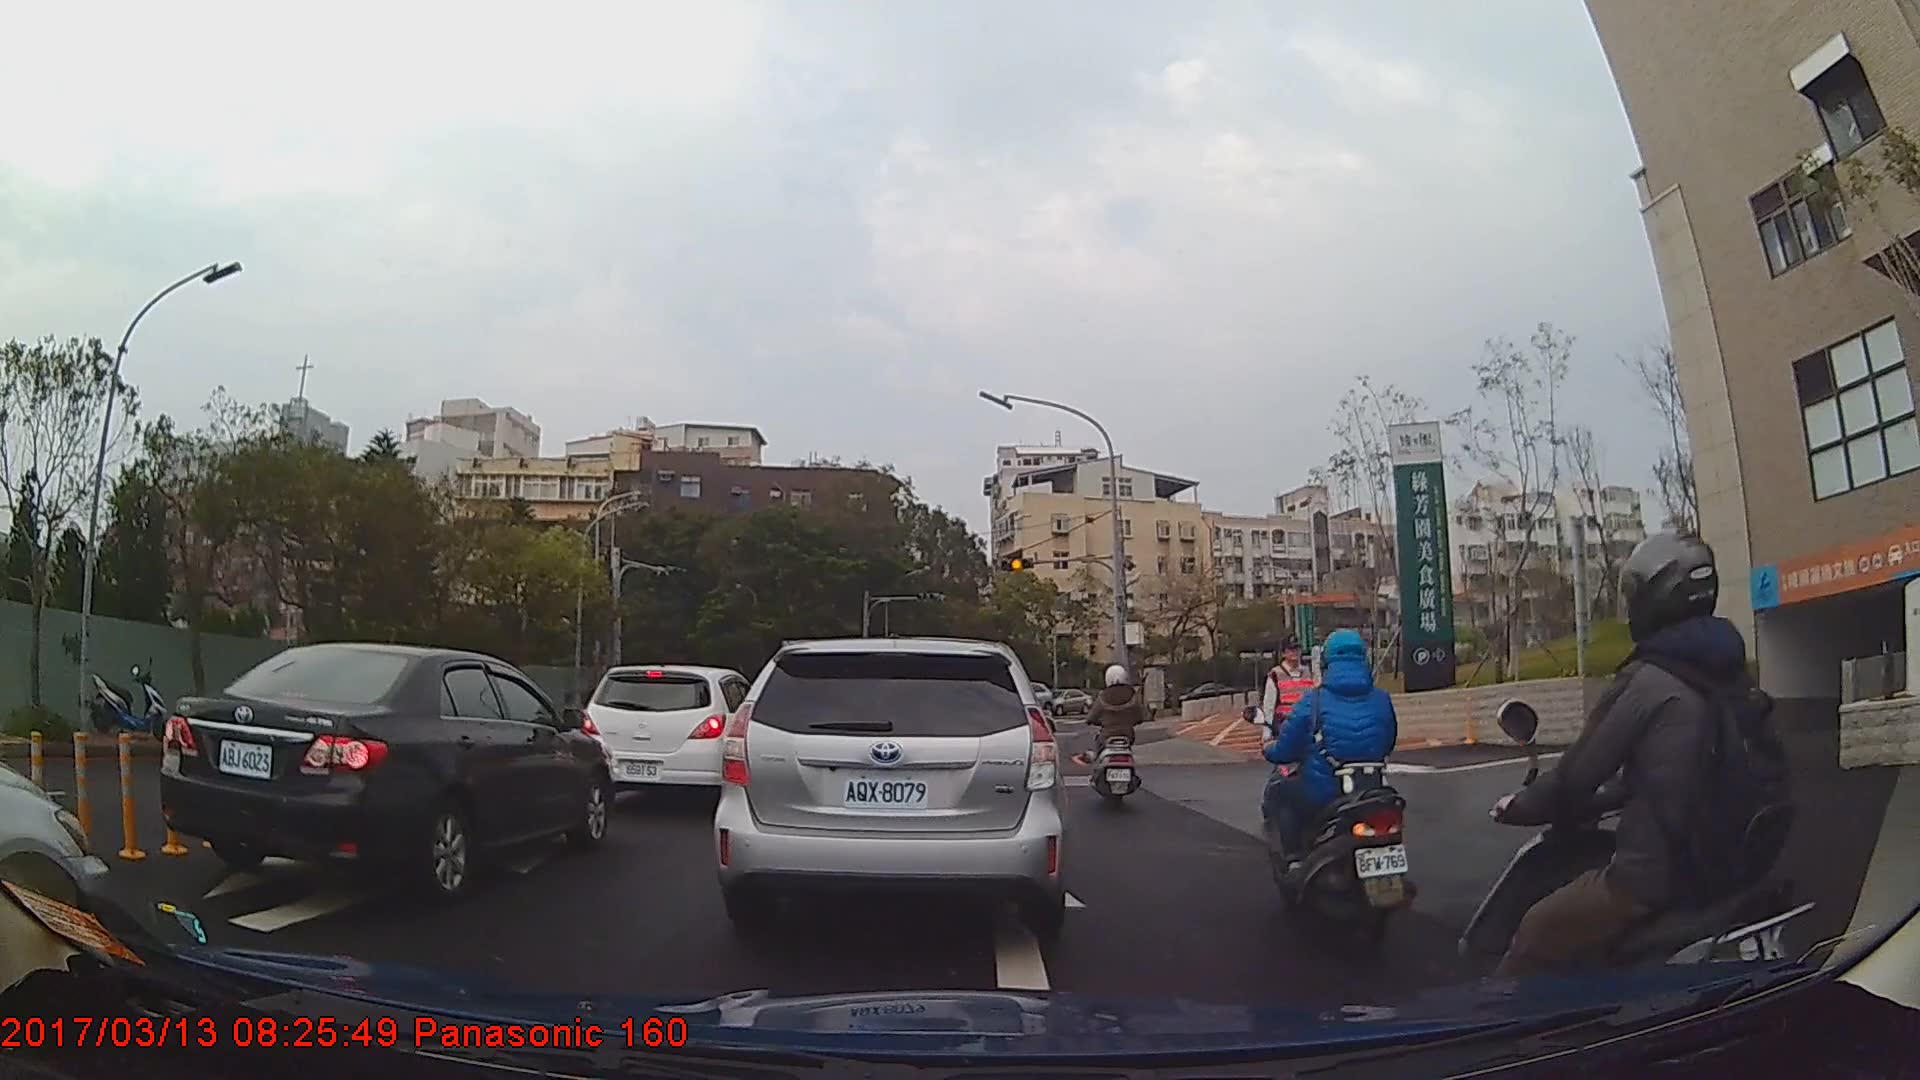rider: (1450, 528, 1822, 1075), (1261, 626, 1416, 943), (1088, 668, 1150, 814)
vehicle: (158, 642, 615, 903), (714, 635, 1067, 938), (574, 663, 763, 811), (1171, 679, 1236, 712), (1051, 687, 1091, 716)
